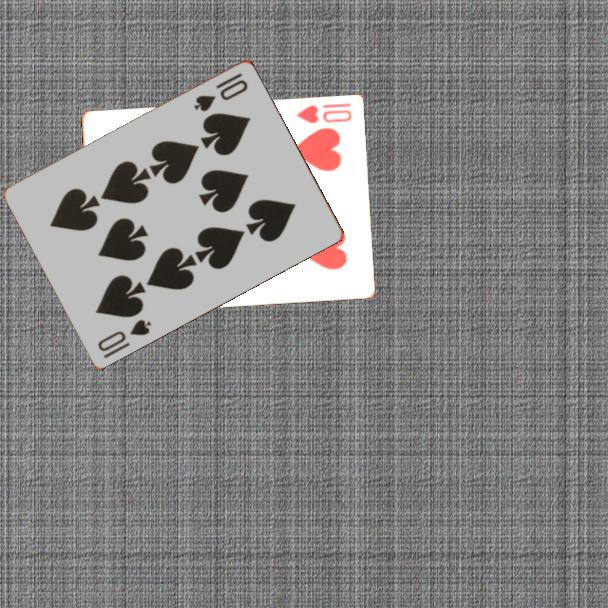h10: (293, 100, 354, 126)
s10: (94, 315, 154, 361), (190, 69, 251, 114)
